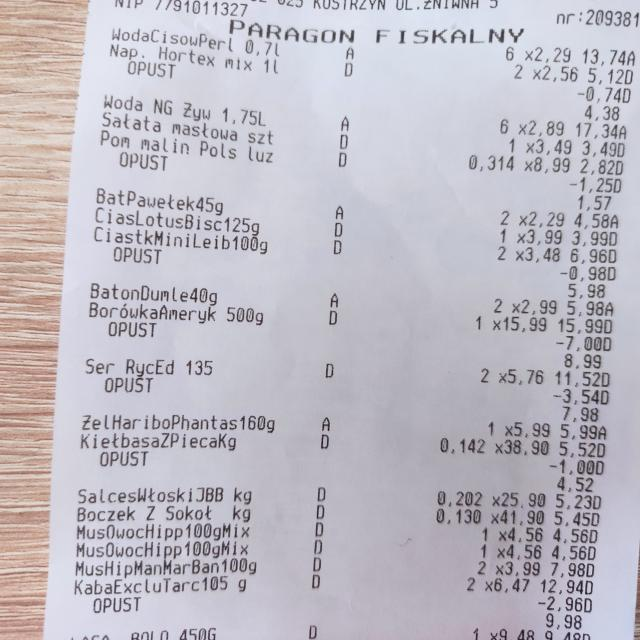products: (72, 28, 636, 632)
top: (113, 1, 638, 43)
